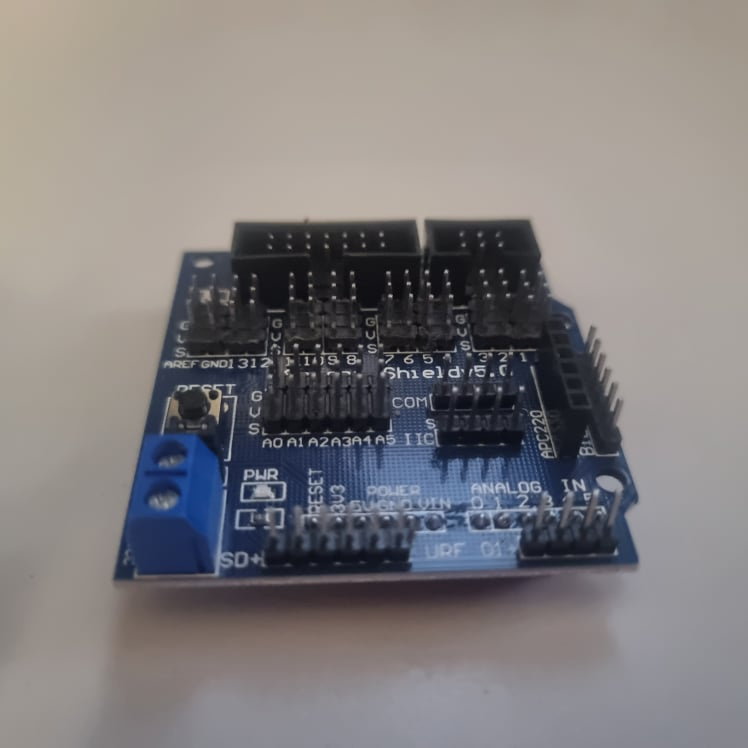5V EXPANSION: (113, 210, 645, 577)
